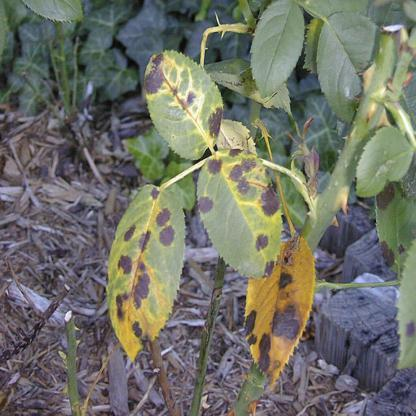Apple Scab Leaf: (105, 176, 189, 358), (197, 137, 285, 283), (248, 229, 315, 391), (136, 45, 219, 154)
